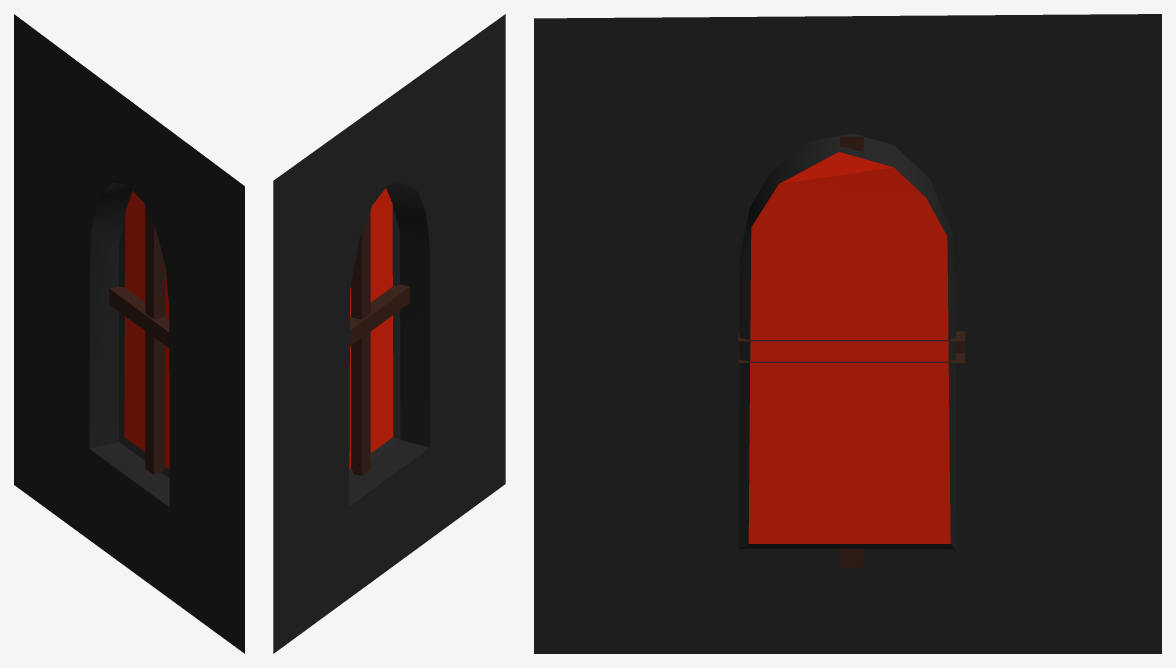
The model's file is standard_window_18.FBX.
3 renders of one model, left to right at view 1: azimuth 30°, elevation 25°; view 2: azimuth 150°, elevation 25°; view 3: azimuth 270°, elevation 25°, orthographic. The views are drawn at different scales.
Visible parts, largest first — view 1: standard_window_18; view 2: standard_window_18; view 3: standard_window_18.
Part boxes in pixels (box(x1,y1,x2,y2)): standard_window_18: box(14, 14, 244, 653); standard_window_18: box(273, 14, 505, 653); standard_window_18: box(534, 14, 1161, 653).
Bounding box in the file's own units: 20.21 × 264 × 234.
